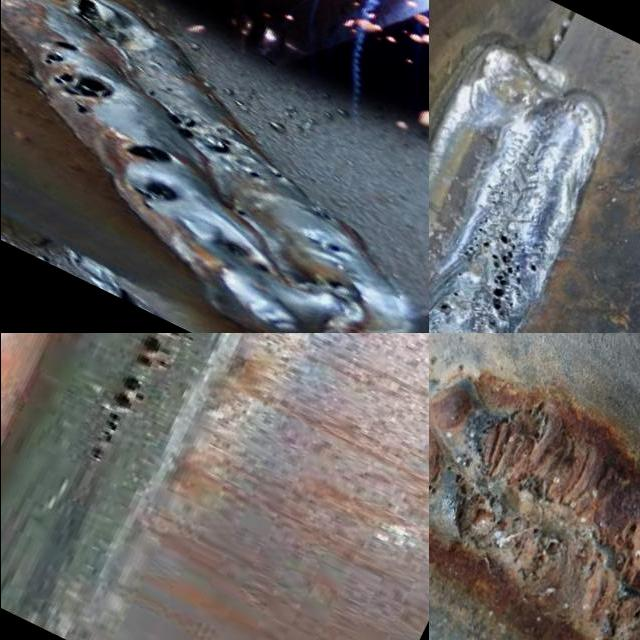defect: (36, 33, 116, 120), (476, 226, 541, 324), (86, 370, 147, 469), (468, 409, 546, 464), (447, 471, 502, 544), (69, 0, 132, 46), (608, 521, 640, 593), (112, 139, 176, 169), (126, 179, 181, 212), (500, 463, 544, 501), (526, 535, 560, 573), (310, 274, 353, 302), (162, 112, 200, 143), (203, 135, 237, 155), (219, 239, 251, 260), (434, 294, 454, 320), (321, 240, 345, 256), (309, 208, 332, 222), (251, 263, 270, 276), (428, 480, 438, 504), (628, 606, 640, 624), (608, 622, 620, 640), (156, 85, 173, 96), (142, 88, 156, 100), (245, 170, 260, 179), (234, 210, 247, 219), (273, 173, 282, 179)
